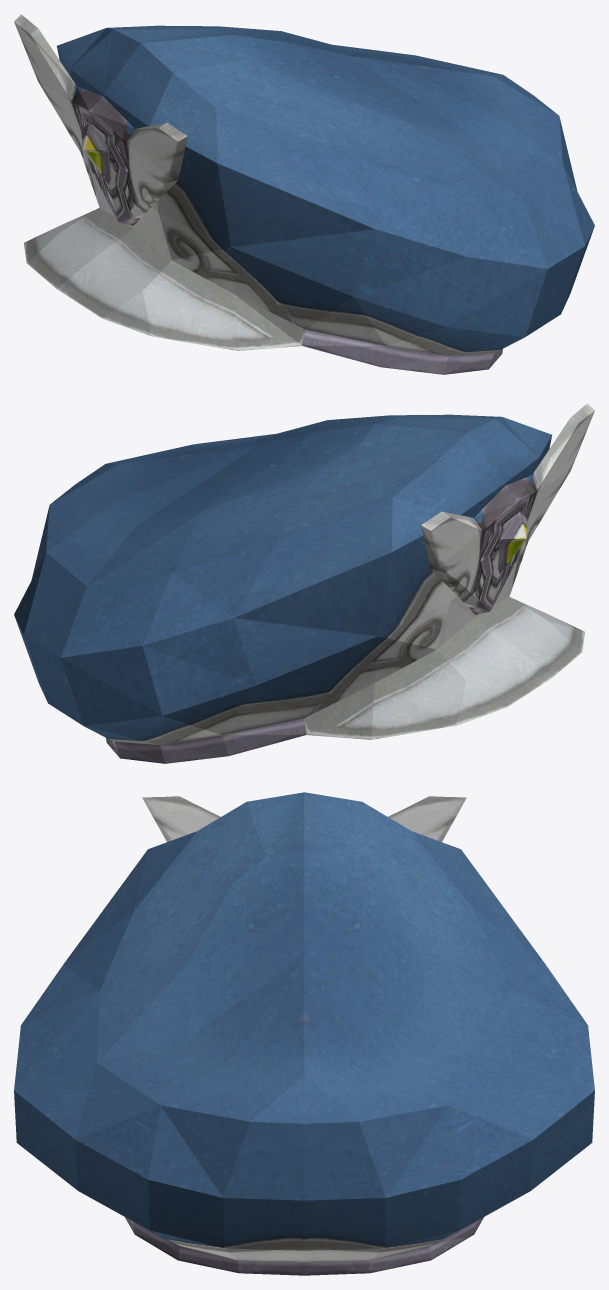
File: Mole_pvpHelmet.obj
The picture shows the model from 3 angles, top to bottom: view 1: azimuth 30°, elevation 25°; view 2: azimuth 150°, elevation 25°; view 3: azimuth 270°, elevation 25°; orthographic projection. The views are drawn at different scales.
Parts seen in each view (by area): view 1: Mole_pvpHelmet_tri; view 2: Mole_pvpHelmet_tri; view 3: Mole_pvpHelmet_tri.
Boxes of the visible parts, x1,y1,x2,y2 form: Mole_pvpHelmet_tri: (14,14,594,374); Mole_pvpHelmet_tri: (14,403,594,763); Mole_pvpHelmet_tri: (14,792,594,1275).
Bounding box in the file's own units: 0.3756 × 0.2521 × 0.4003.
Materials: 1 (1 with a texture image).
